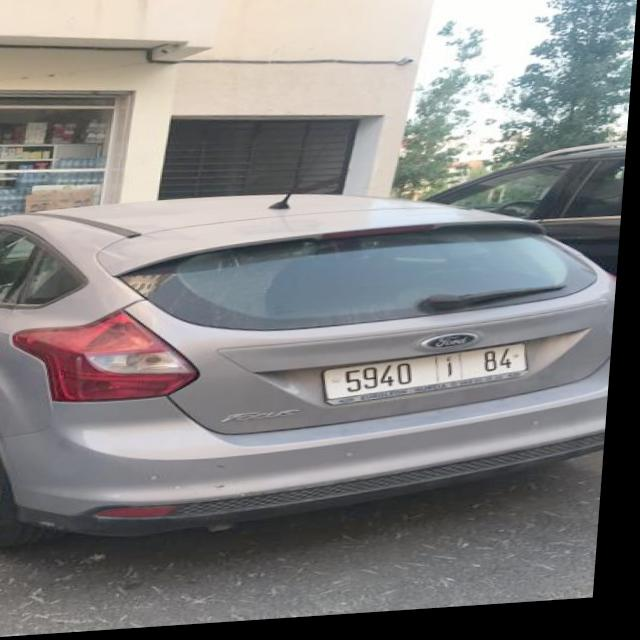License-Plate: (333, 352, 534, 410)
